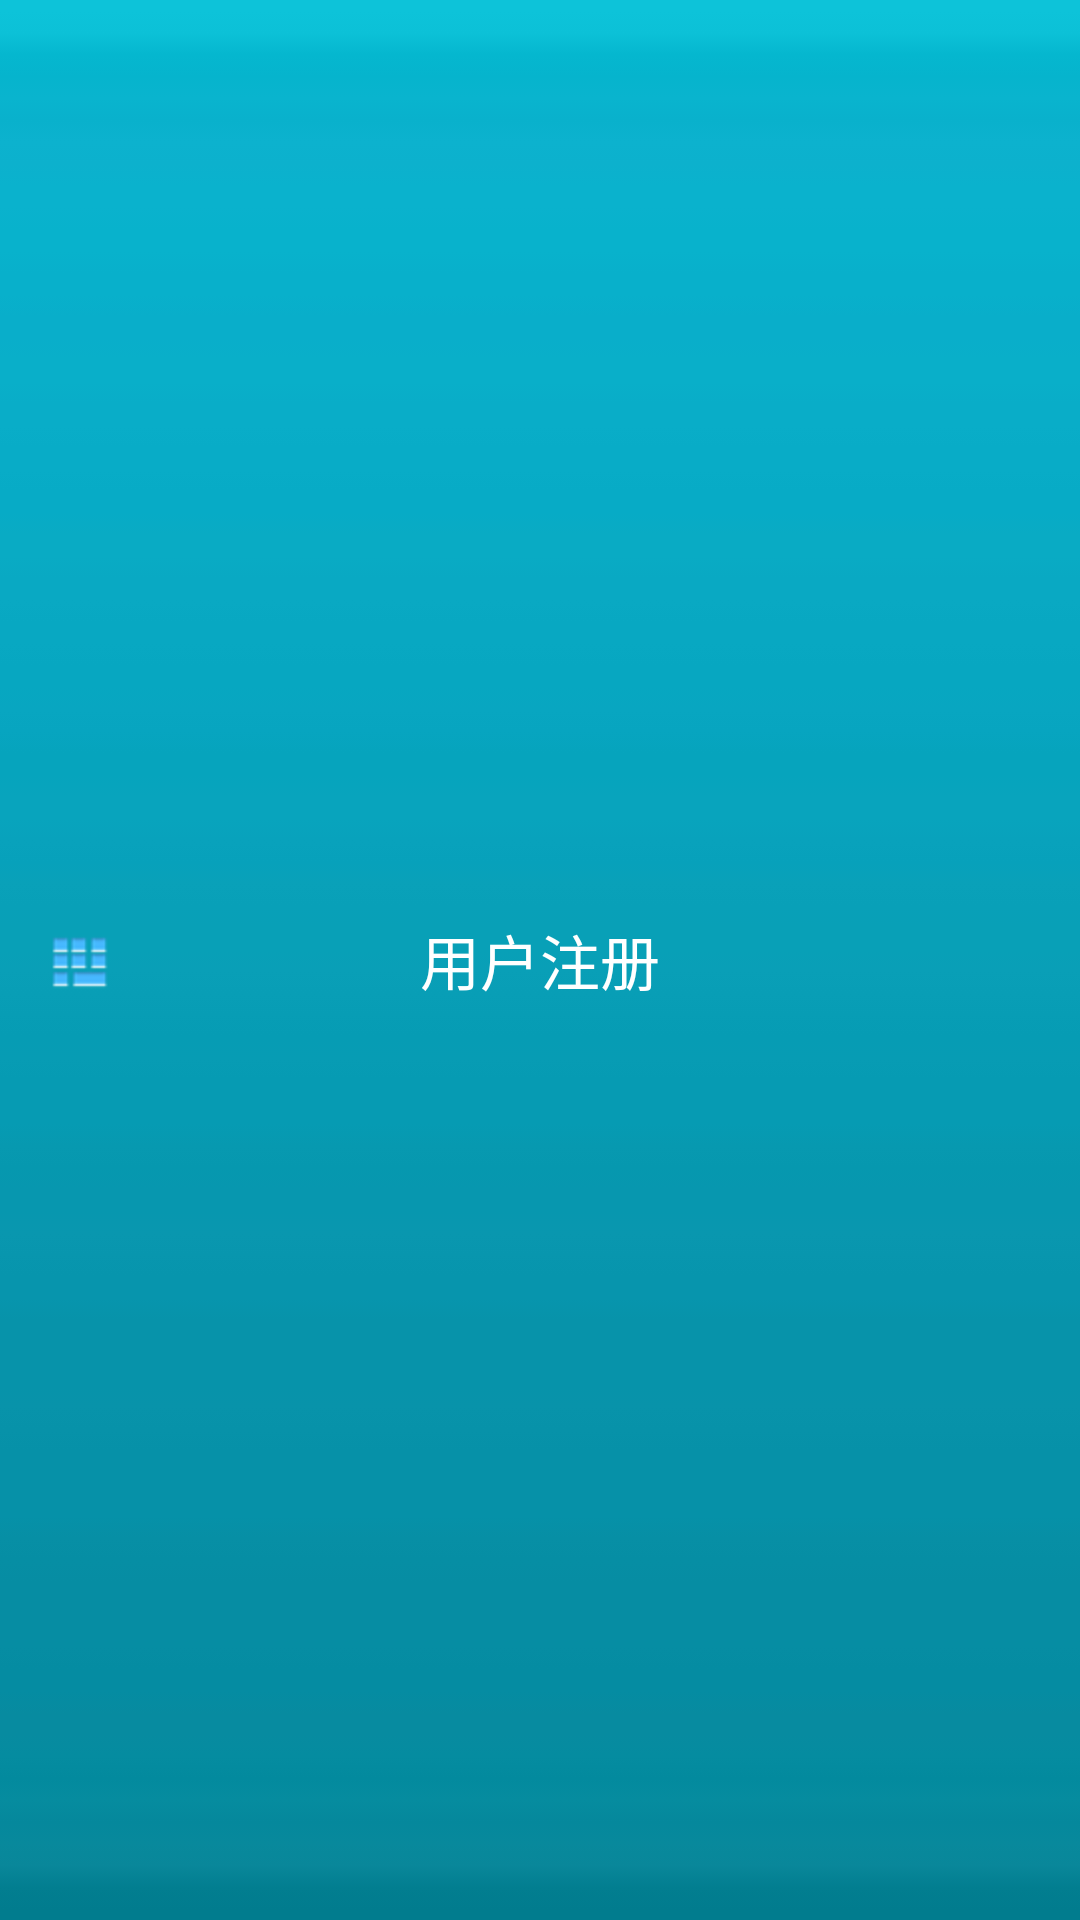

Named icons in this screenshot (1080w x 1920h) and their centers, (x=x, y=y):
menu: (x=79, y=962)
